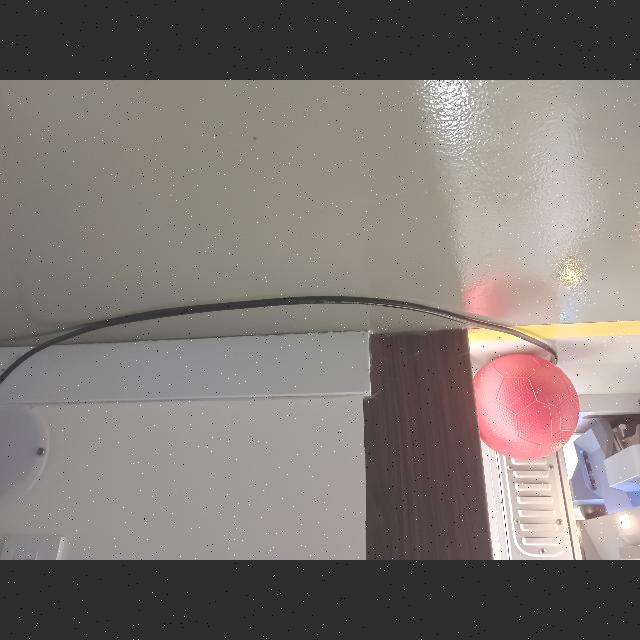R: (470, 354, 580, 461)
